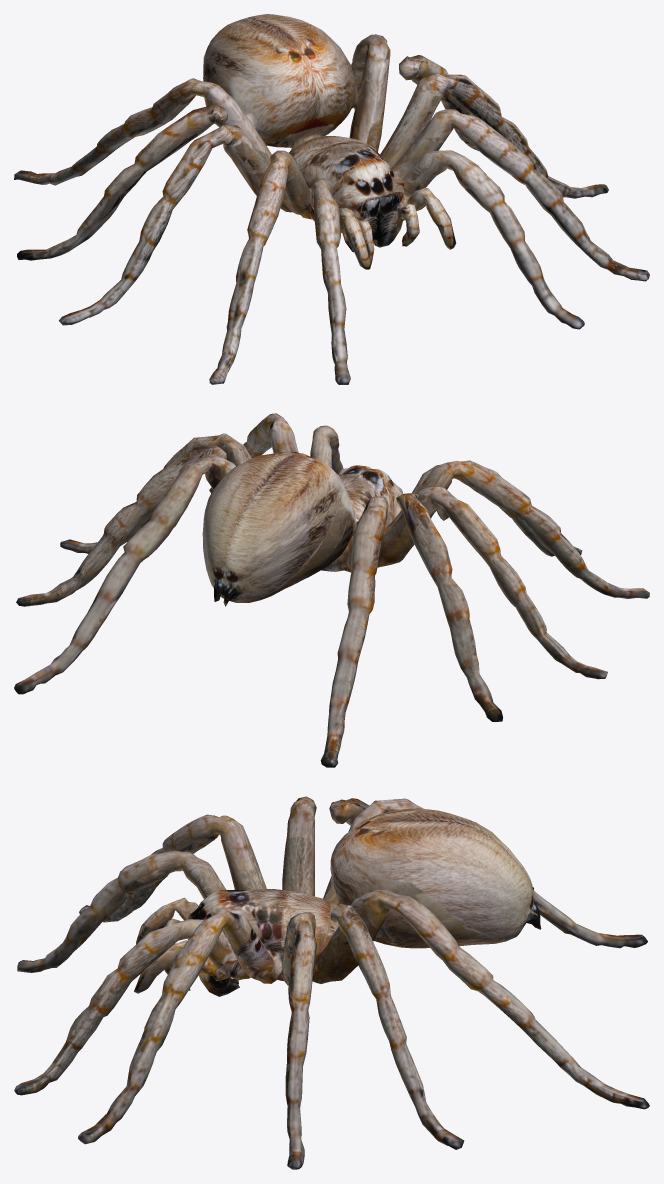
File: spider.glb
3 views of the same model, one above another, from view 1: azimuth 30°, elevation 25°; view 2: azimuth 150°, elevation 25°; view 3: azimuth 270°, elevation 25° (orthographic). The views are drawn at different scales.
Bounding box in the file's own units: 2.02 × 0.688 × 1.87.
1 material, 1 textured.
